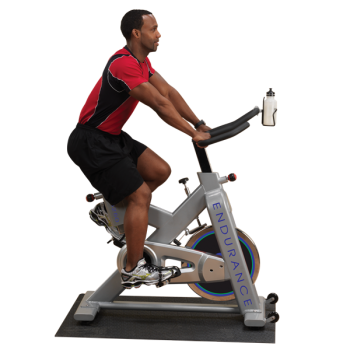gym_bike: (57, 96, 288, 332)
